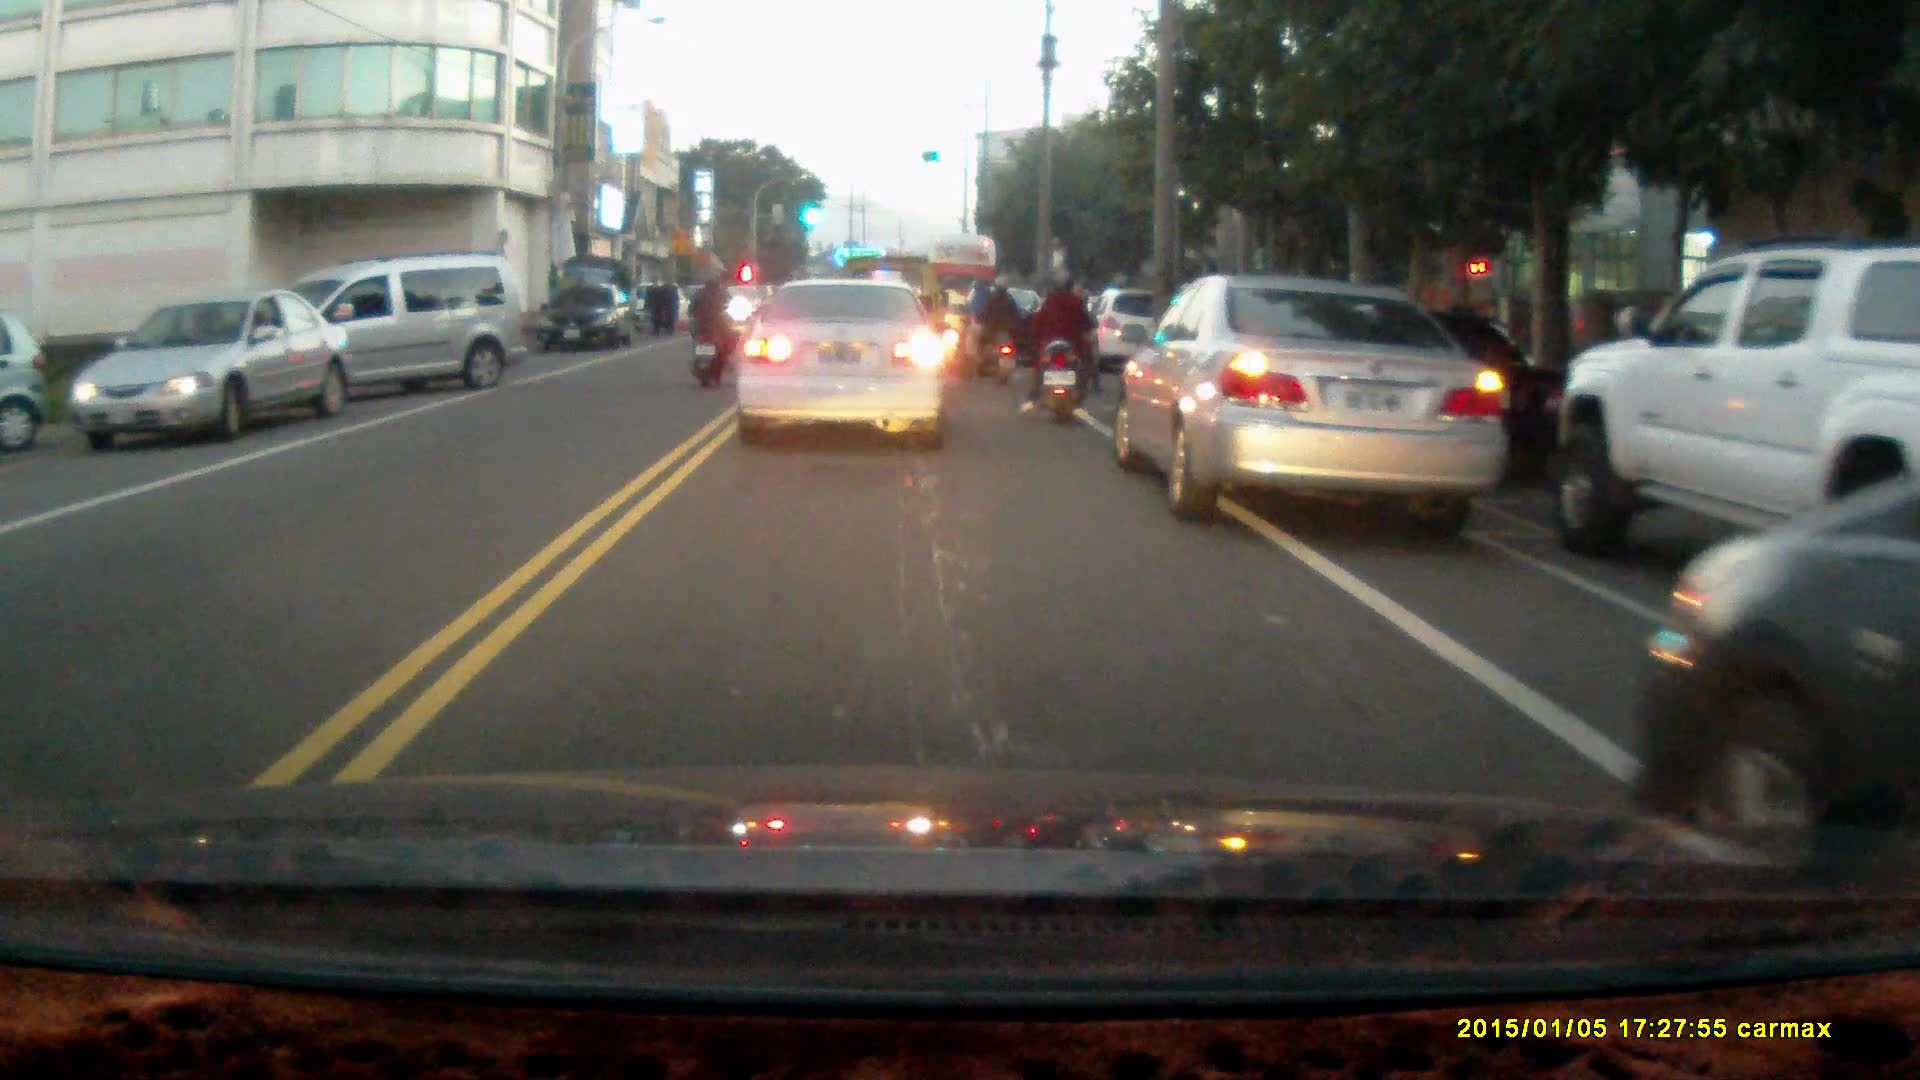pedestrian: (643, 274, 668, 339), (657, 275, 678, 334)
rider: (1018, 266, 1101, 426), (957, 269, 1023, 384), (687, 275, 735, 387)
vehicle: (1546, 241, 1920, 565), (1639, 461, 1920, 856), (1110, 268, 1505, 524), (234, 254, 533, 417), (75, 292, 351, 447), (734, 276, 950, 456), (1, 296, 50, 454), (538, 281, 636, 354)
